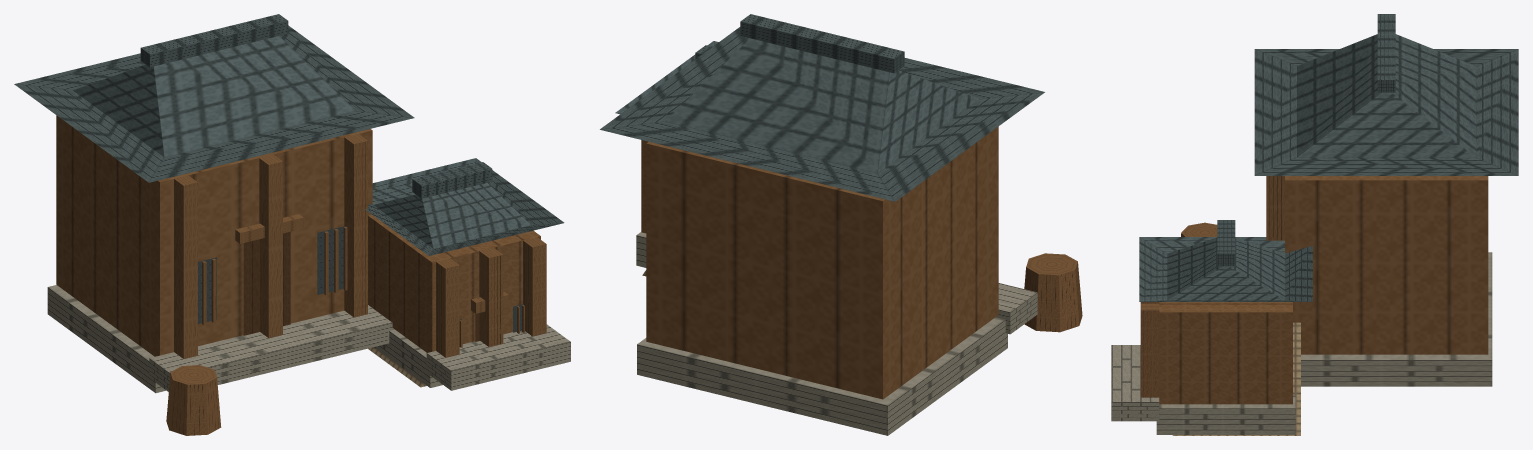
File: domestic-BARRACKS-2-lod0.glb
The picture shows the model from 3 angles, left to right: view 1: azimuth 30°, elevation 25°; view 2: azimuth 150°, elevation 25°; view 3: azimuth 270°, elevation 25°; orthographic projection. The views are drawn at different scales.
Size of the model in its own units: 0.7658 by 0.6 by 0.762.
1 material, 1 textured.
